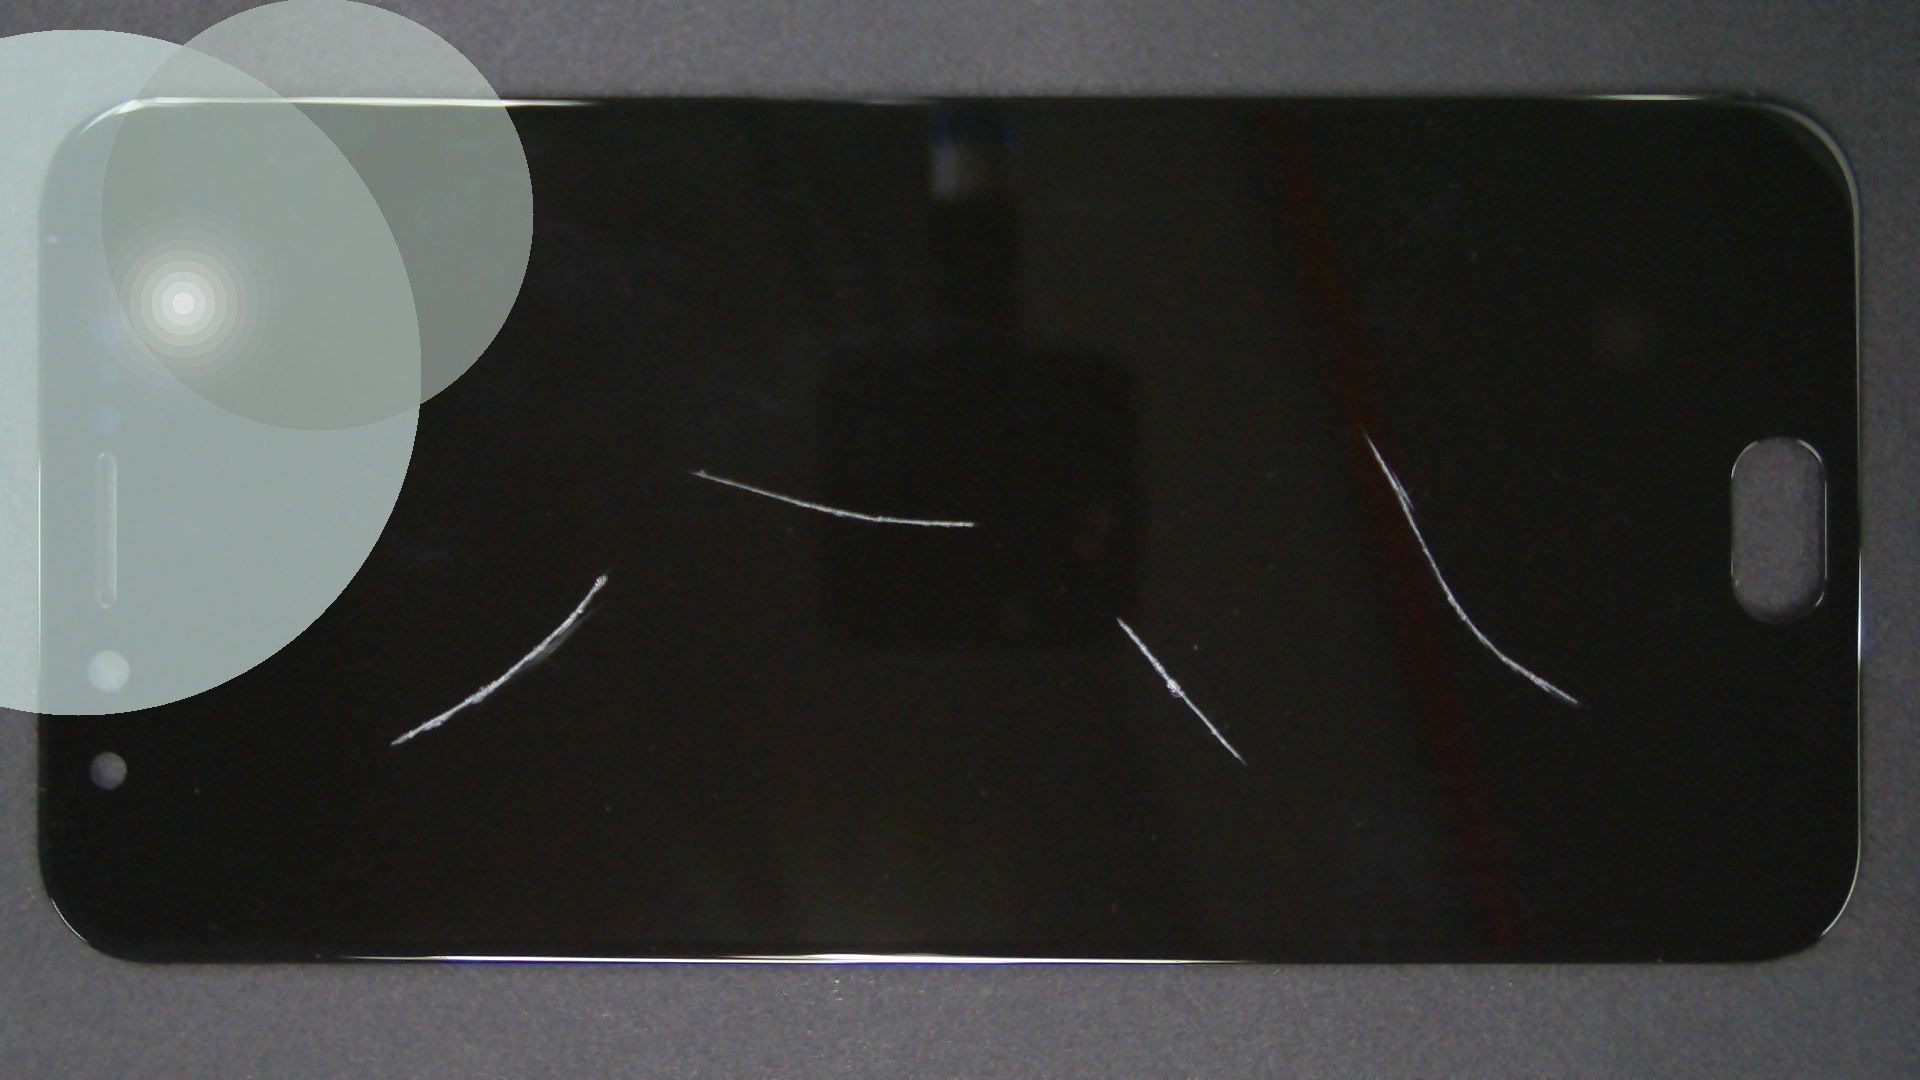oil: (560, 307, 1676, 924), (680, 218, 1920, 654), (302, 286, 905, 861), (352, 233, 1054, 704)
